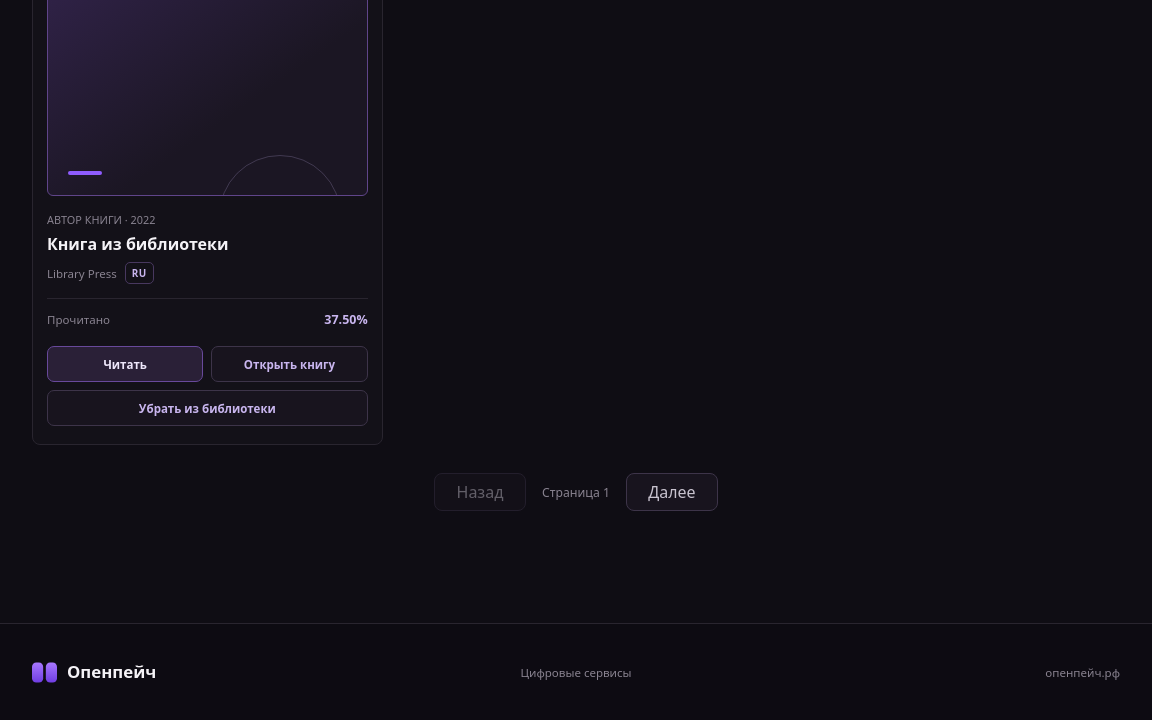
LibraryPage › переключает страницы библиотеки
(page scrolled)
Click the button "Далее": click(672, 492) [626,473,718,511]
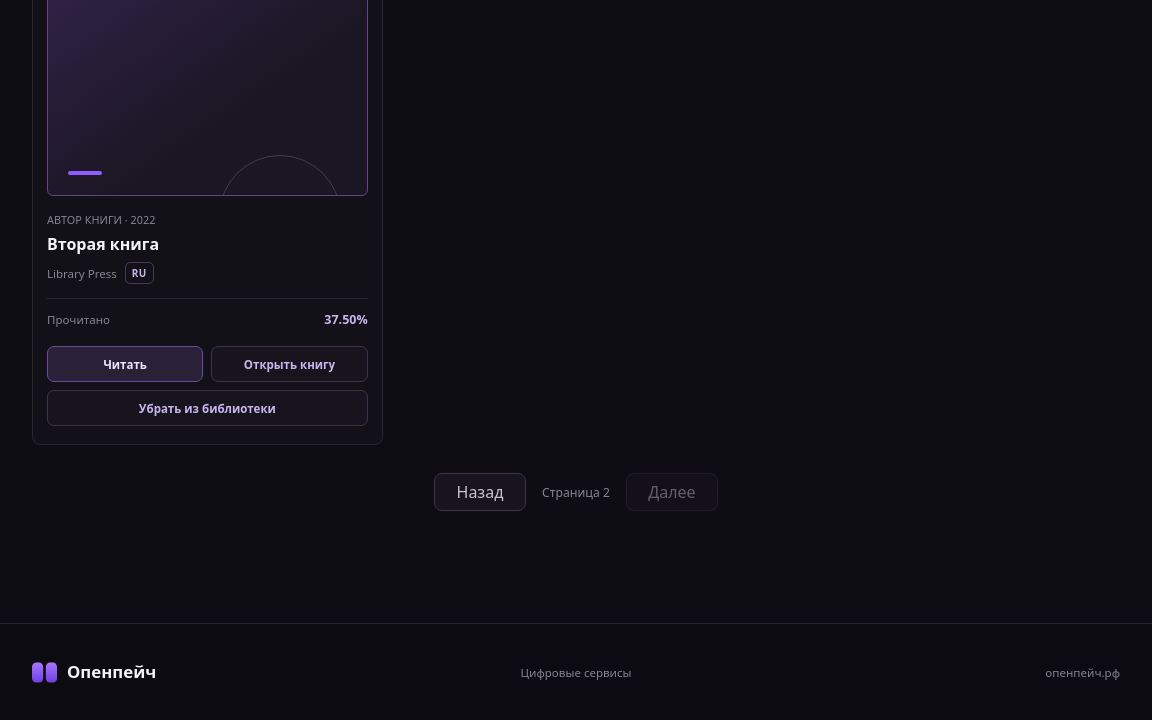
Result: the heading "Вторая книга" is shown at [47,233,159,255]
